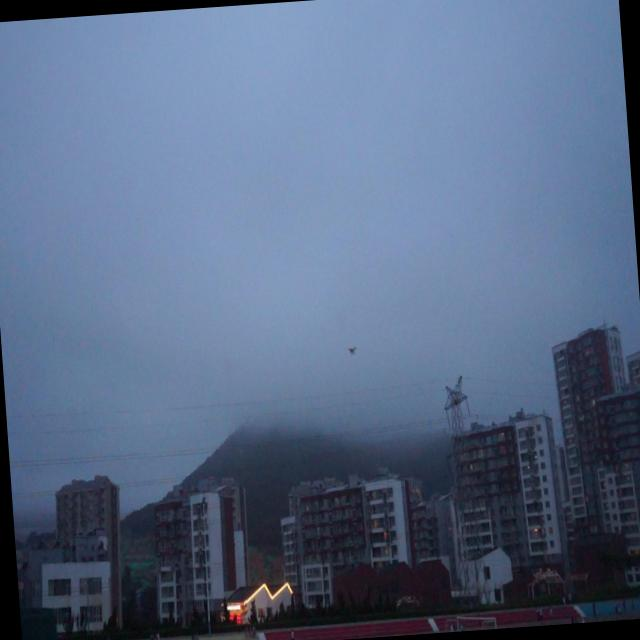drone: (347, 344, 358, 356)
